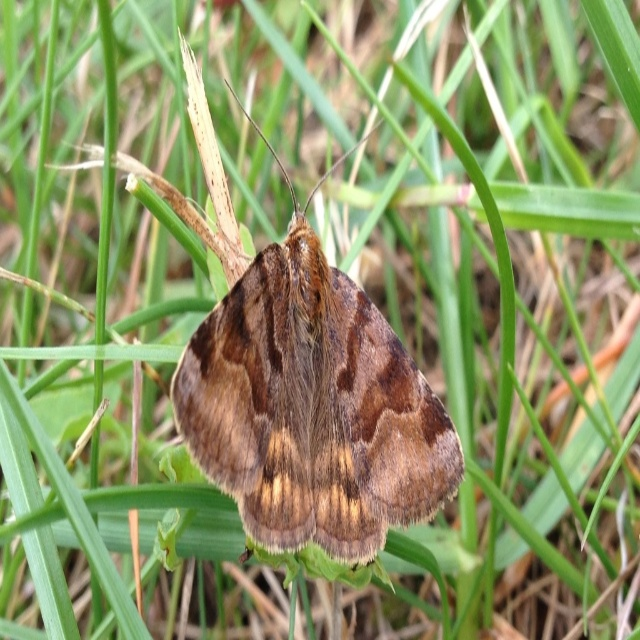Butterfly: (164, 78, 461, 590)
